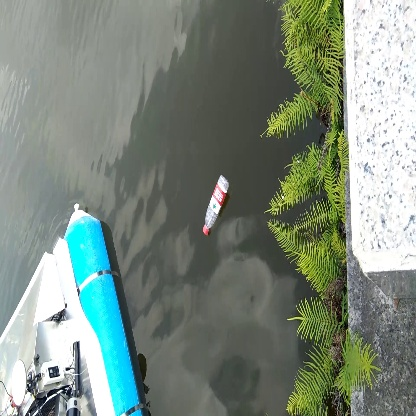bottle: (199, 174, 232, 237)
